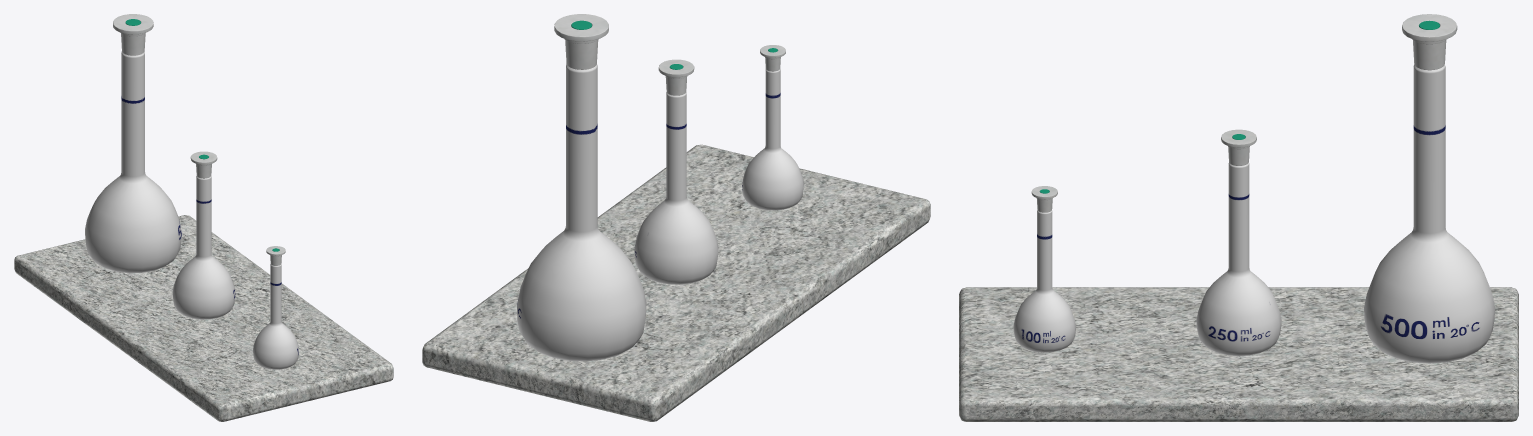
The model's file is volumetric_flasks.glb.
The picture shows the model from 3 angles, left to right: view 1: azimuth 30°, elevation 25°; view 2: azimuth 150°, elevation 25°; view 3: azimuth 270°, elevation 25°; orthographic projection. The views are drawn at different scales.
Parts seen in each view (by area): view 1: Cube, Vidro_500mL, Vidro_250mL, Vidro_100mL, Tampa_500mL, Tampa_250mL; view 2: Cube, Vidro_500mL, Vidro_250mL, Vidro_100mL, Tampa_500mL, Tampa_250mL, Tampa_100mL; view 3: Cube, Vidro_500mL, Vidro_250mL, Vidro_100mL, Tampa_500mL, Tampa_250mL.
Part boxes in pixels (left/top/right/bottom): Cube: left=14, top=215, right=393, bottom=421; Vidro_500mL: left=85, top=51, right=181, bottom=273; Vidro_250mL: left=172, top=176, right=235, bottom=319; Vidro_100mL: left=253, top=264, right=298, bottom=369; Tampa_500mL: left=113, top=14, right=153, bottom=55; Tampa_250mL: left=190, top=151, right=217, bottom=178; Cube: left=422, top=144, right=930, bottom=421; Vidro_500mL: left=517, top=64, right=646, bottom=361; Vidro_250mL: left=634, top=92, right=718, bottom=284; Vidro_100mL: left=742, top=69, right=803, bottom=210; Tampa_500mL: left=554, top=14, right=608, bottom=69; Tampa_250mL: left=658, top=59, right=694, bottom=95; Tampa_100mL: left=760, top=45, right=785, bottom=71; Cube: left=959, top=287, right=1518, bottom=421; Vidro_500mL: left=1364, top=64, right=1495, bottom=363; Vidro_250mL: left=1196, top=162, right=1281, bottom=356; Vidro_100mL: left=1013, top=210, right=1075, bottom=352; Tampa_500mL: left=1402, top=14, right=1457, bottom=70; Tampa_250mL: left=1221, top=129, right=1256, bottom=165.
Bounding box in the file's own units: 0.3149 × 0.4337 × 0.6436.
3 materials, 3 textured.
